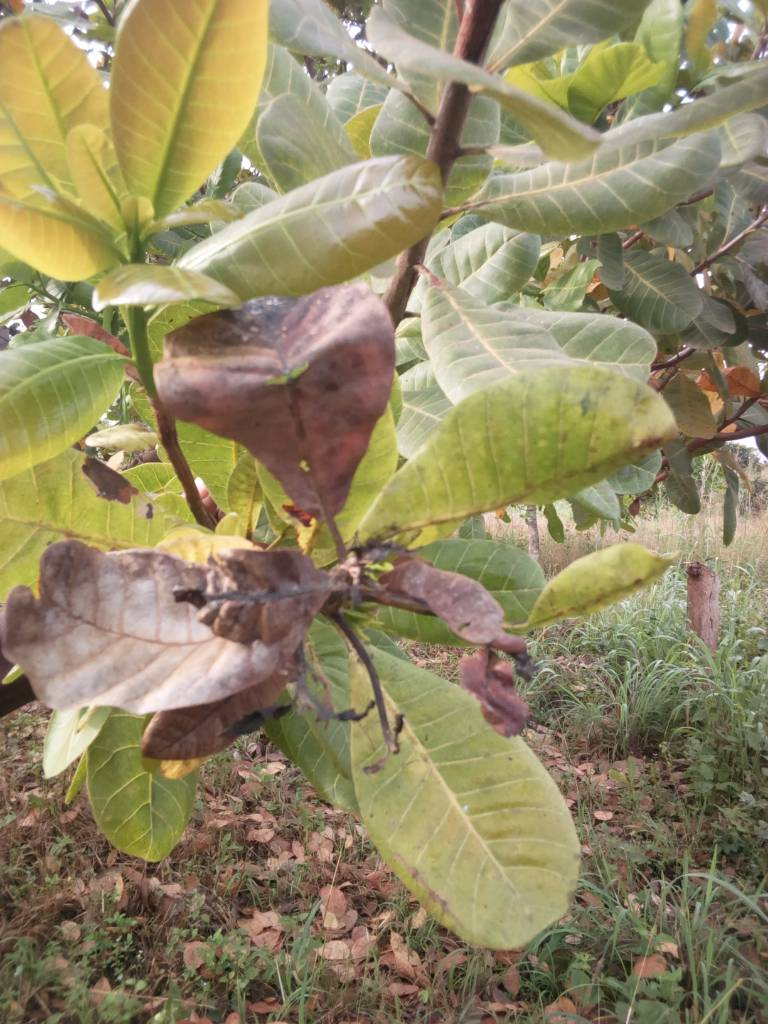Dessèchement des bourgeons: (264, 559, 442, 740)
